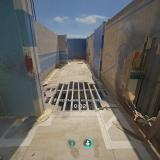Character: (62, 92, 66, 101)
